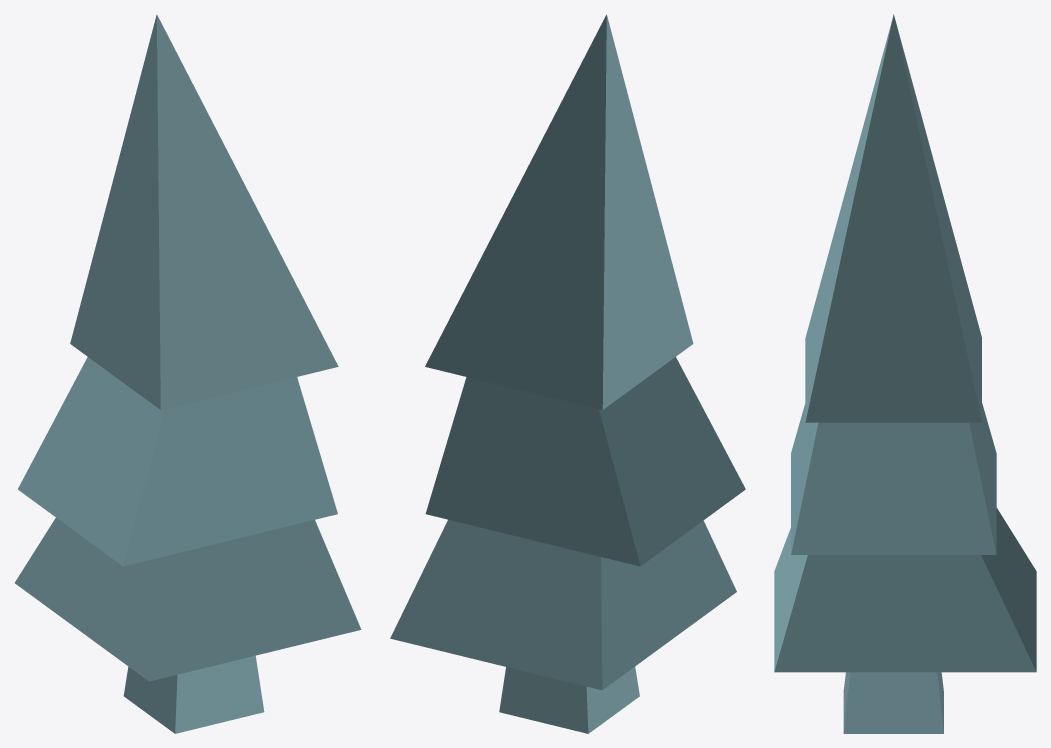
The model's file is tree_pineSmall_square2.glb.
3 views of the same model, side by side, from view 1: azimuth 30°, elevation 25°; view 2: azimuth 150°, elevation 25°; view 3: azimuth 270°, elevation 25° (orthographic). The views are drawn at different scales.
Parts seen in each view (by area): view 1: tree_pineSmall_square2; view 2: tree_pineSmall_square2; view 3: tree_pineSmall_square2.
Part boxes in pixels (x1,y1,x2,y2): tree_pineSmall_square2: (15,14,361,733); tree_pineSmall_square2: (390,14,745,733); tree_pineSmall_square2: (774,14,1036,733).
Bounding box in the file's own units: 3.86 × 11.23 × 3.92.
